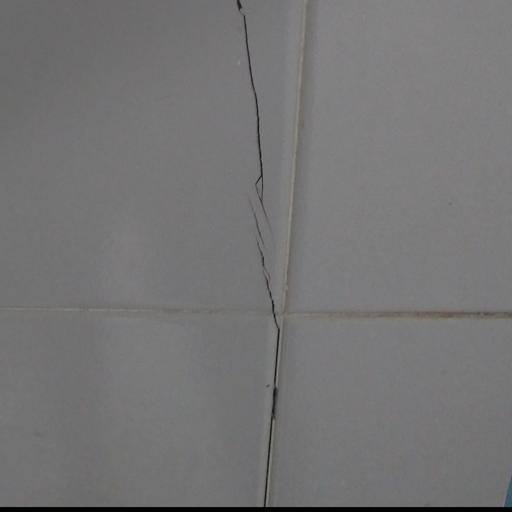minor_crack: (221, 0, 284, 512)
